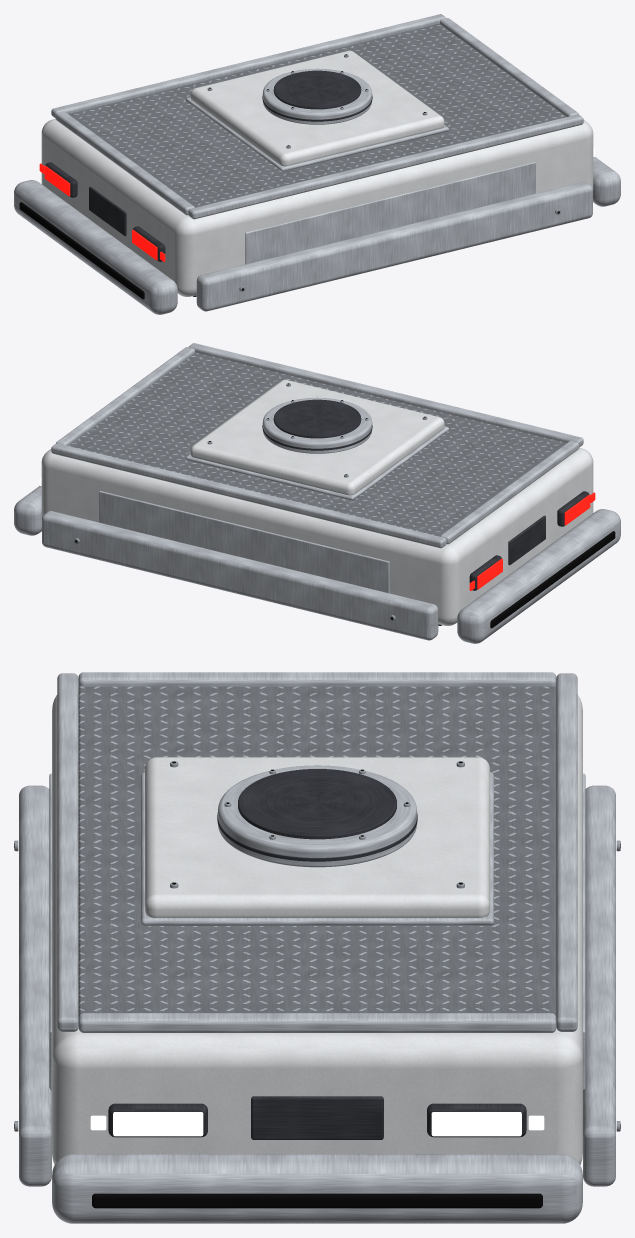
3 renders of one model, top to bottom at view 1: azimuth 30°, elevation 25°; view 2: azimuth 150°, elevation 25°; view 3: azimuth 270°, elevation 25°, orthographic. The views are drawn at different scales.
Parts seen in each view (by area): view 1: base_link; view 2: base_link; view 3: base_link.
Part boxes in pixels (left/top/right/bottom): base_link: left=14, top=14, right=620, bottom=314; base_link: left=14, top=343, right=620, bottom=643; base_link: left=14, top=672, right=620, bottom=1223.
Size of the model in its own units: 0.75 by 0.4574 by 0.183.
8 materials, 4 textured.
